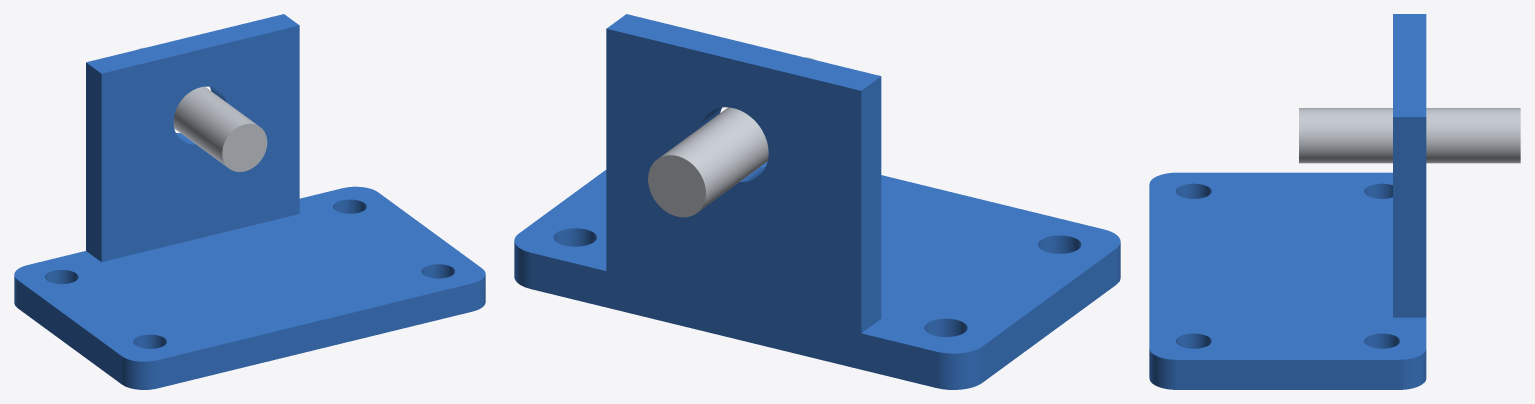
The model's file is demo-bracket.glb.
3 renders of one model, left to right at view 1: azimuth 30°, elevation 25°; view 2: azimuth 150°, elevation 25°; view 3: azimuth 270°, elevation 25°, orthographic. The views are drawn at different scales.
Parts seen in each view (by area): view 1: Bracket, Shaft; view 2: Bracket, Shaft; view 3: Bracket, Shaft.
Part boxes in pixels (x1=…): Bracket: x1=14, y1=14, x2=485, y2=389; Shaft: x1=136, y1=47, x2=267, y2=171; Bracket: x1=514, y1=14, x2=1120, y2=389; Shaft: x1=648, y1=57, x2=816, y2=217; Bracket: x1=1149, y1=14, x2=1426, y2=389; Shaft: x1=1299, y1=108, x2=1520, y2=163.
Size of the model in its own units: 0.08 by 0.046 by 0.067.
